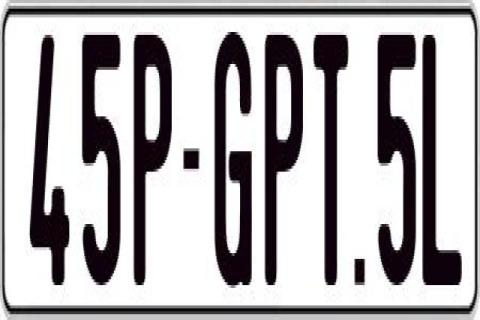0: (81, 35, 121, 299), (378, 29, 418, 288), (27, 29, 67, 282)
G: (212, 26, 256, 288)
L: (422, 29, 463, 288)
P: (132, 26, 176, 291), (264, 32, 302, 291)
T: (313, 35, 351, 297)
